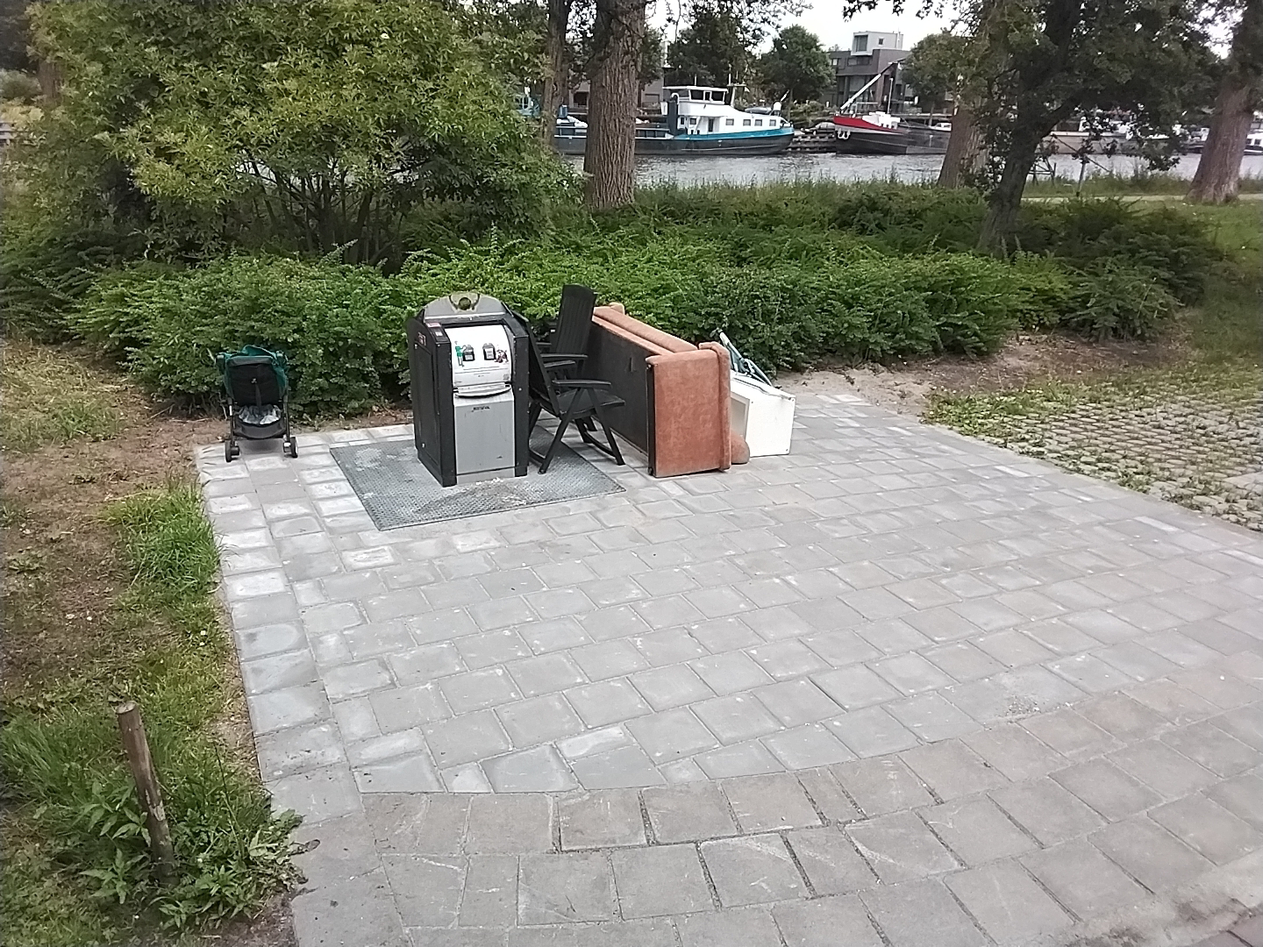Container: (423, 276, 530, 489)
Rest: (558, 279, 716, 458), (205, 350, 304, 449), (536, 333, 598, 466), (736, 332, 802, 453)
